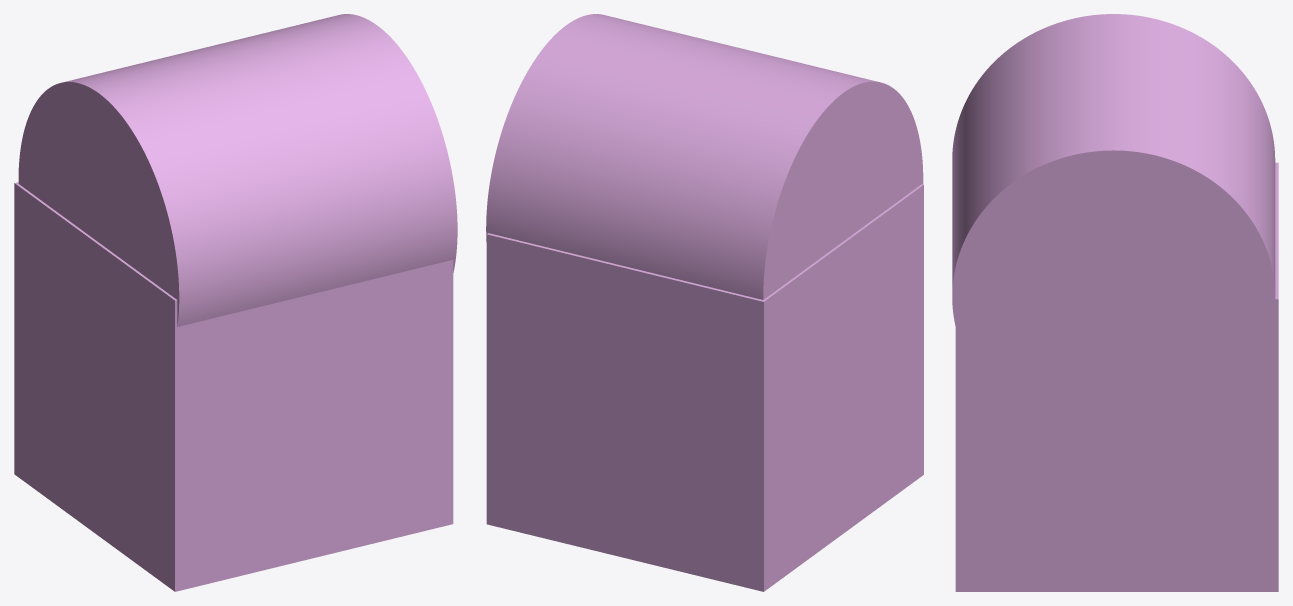
Rendered from treasure2.fbx.
3 views of the same model, side by side, from view 1: azimuth 30°, elevation 25°; view 2: azimuth 150°, elevation 25°; view 3: azimuth 270°, elevation 25° (orthographic).
Visible parts, largest first — view 1: Cube.029; view 2: Cube.029; view 3: Cube.029.
Part boxes in pixels (x1,y1,x2,y2): Cube.029: [14, 14, 457, 591]; Cube.029: [486, 14, 923, 591]; Cube.029: [952, 14, 1278, 591].
Bounding box in the file's own units: 1008 × 1512 × 1011.
